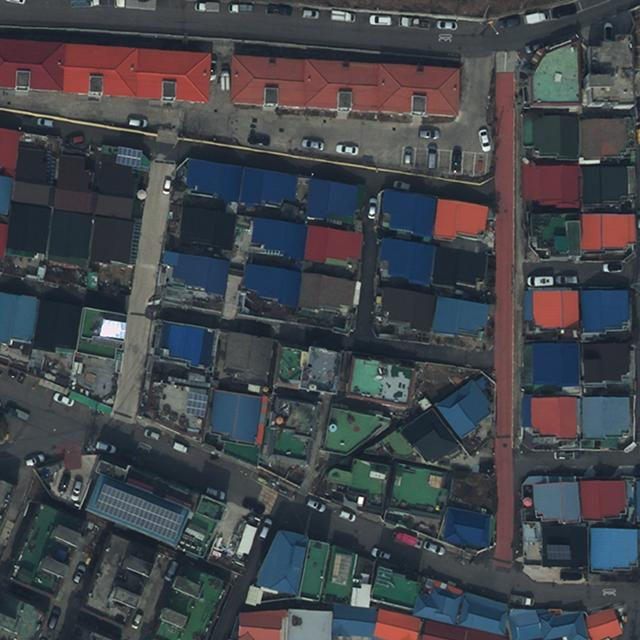panel: (92, 482, 184, 541), (114, 144, 142, 167), (184, 391, 208, 416), (545, 543, 572, 559)
